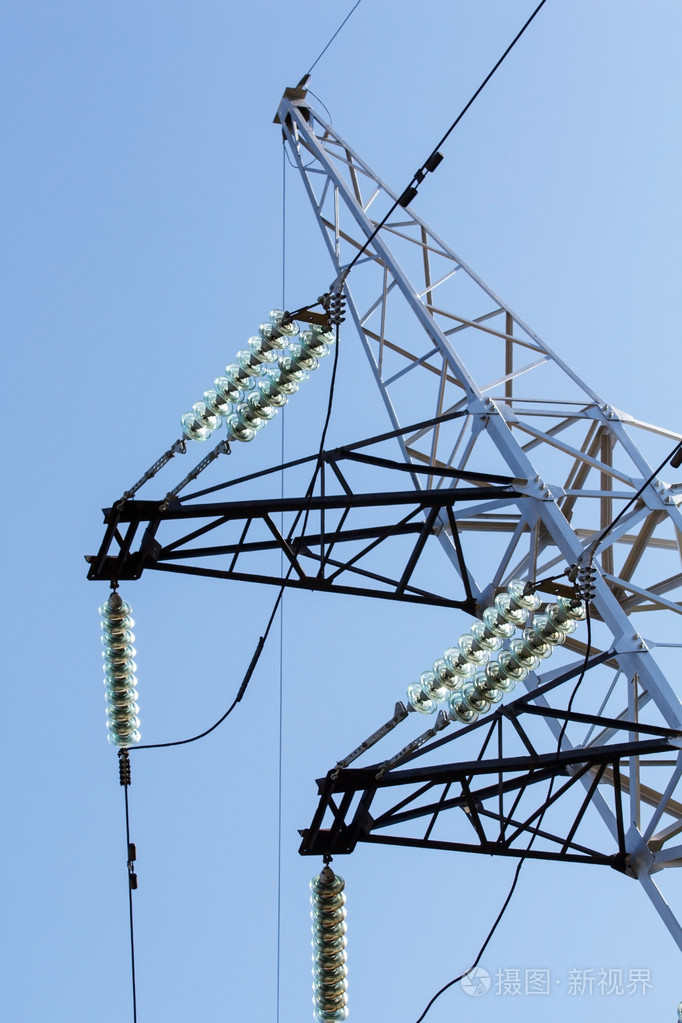insulator: (414, 579, 584, 722), (180, 305, 334, 444), (92, 600, 142, 747), (308, 876, 353, 1023)
